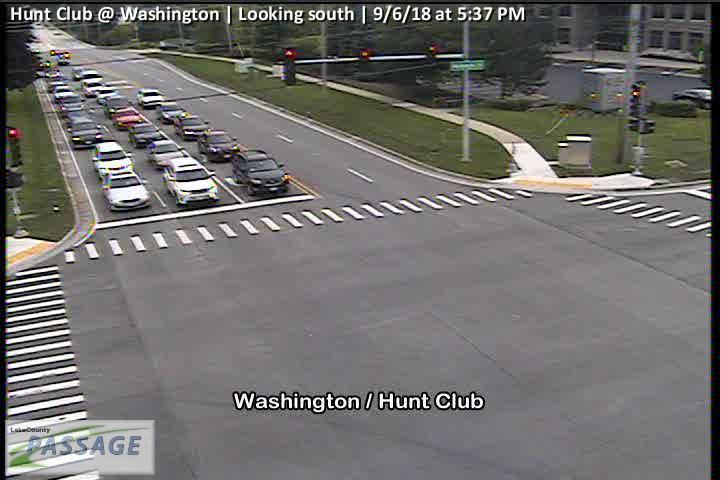SUV: (163, 157, 218, 205), (232, 152, 288, 195), (93, 142, 135, 177)
Sedan: (105, 172, 151, 211), (198, 130, 239, 160), (146, 139, 184, 166), (70, 121, 103, 148), (175, 114, 207, 141), (128, 122, 162, 146), (112, 108, 140, 127), (137, 88, 162, 107), (93, 85, 117, 101)
